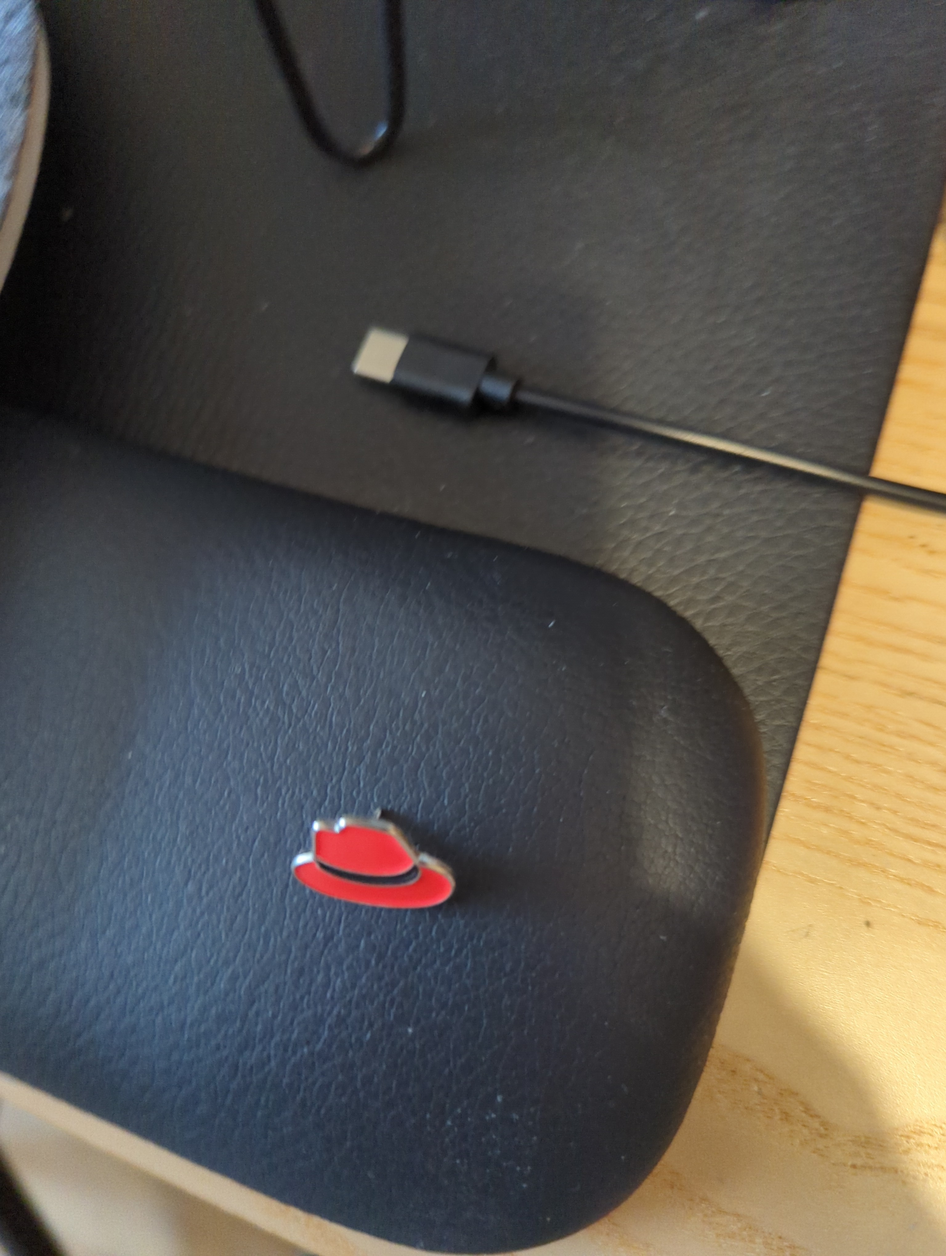Red-Hat: (231, 731, 551, 998)
